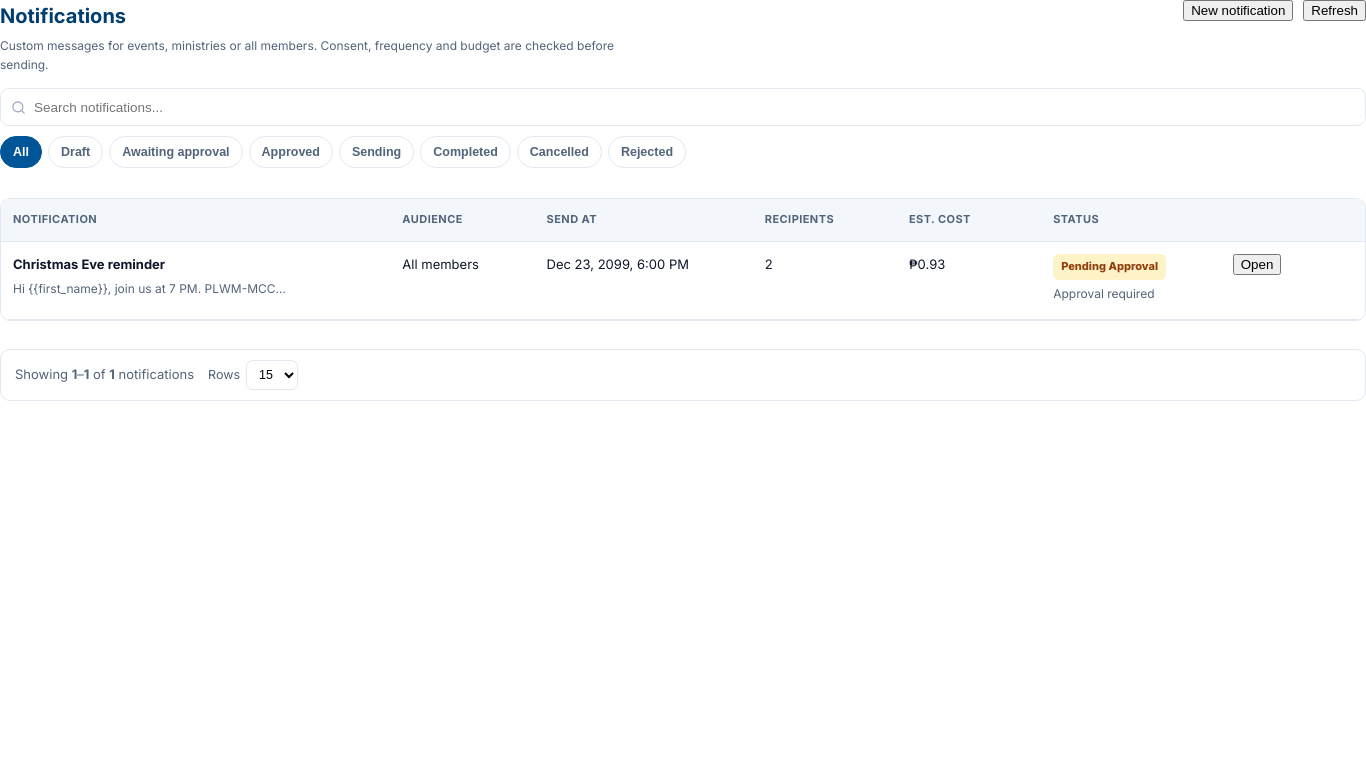
Test: CampaignsPanel › preview shows eligible recipients and estimated cost
expect the text "Christmas Eve reminder" is shown: met, box [13, 256, 165, 272]
Click the button "New notification": [1238, 10] box [1183, 0, 1293, 21]
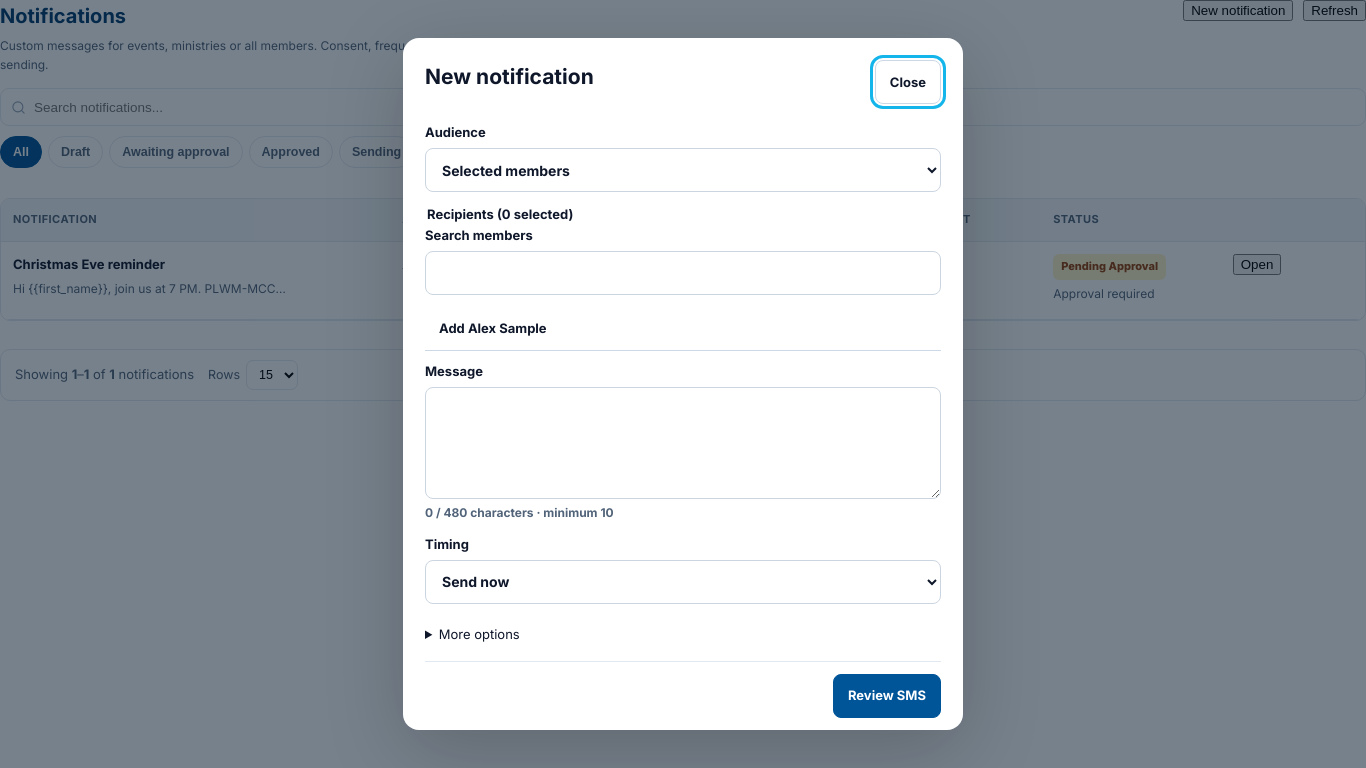
Click the button "Add Alex Sample": [507, 328] box [425, 307, 941, 351]
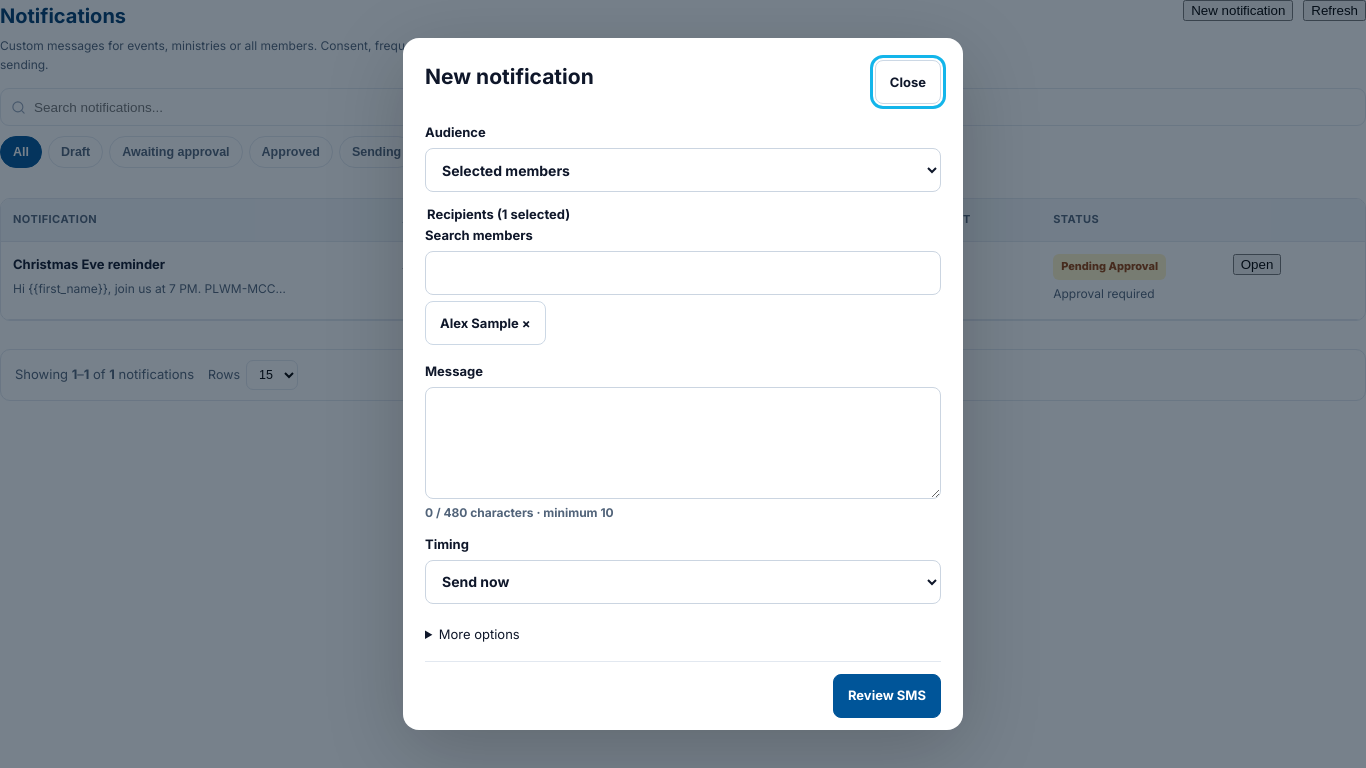
In the text box labelled "Message 0 / 480 characters · minimum 10": [683, 443] box [425, 387, 941, 499], type "Church reminder"
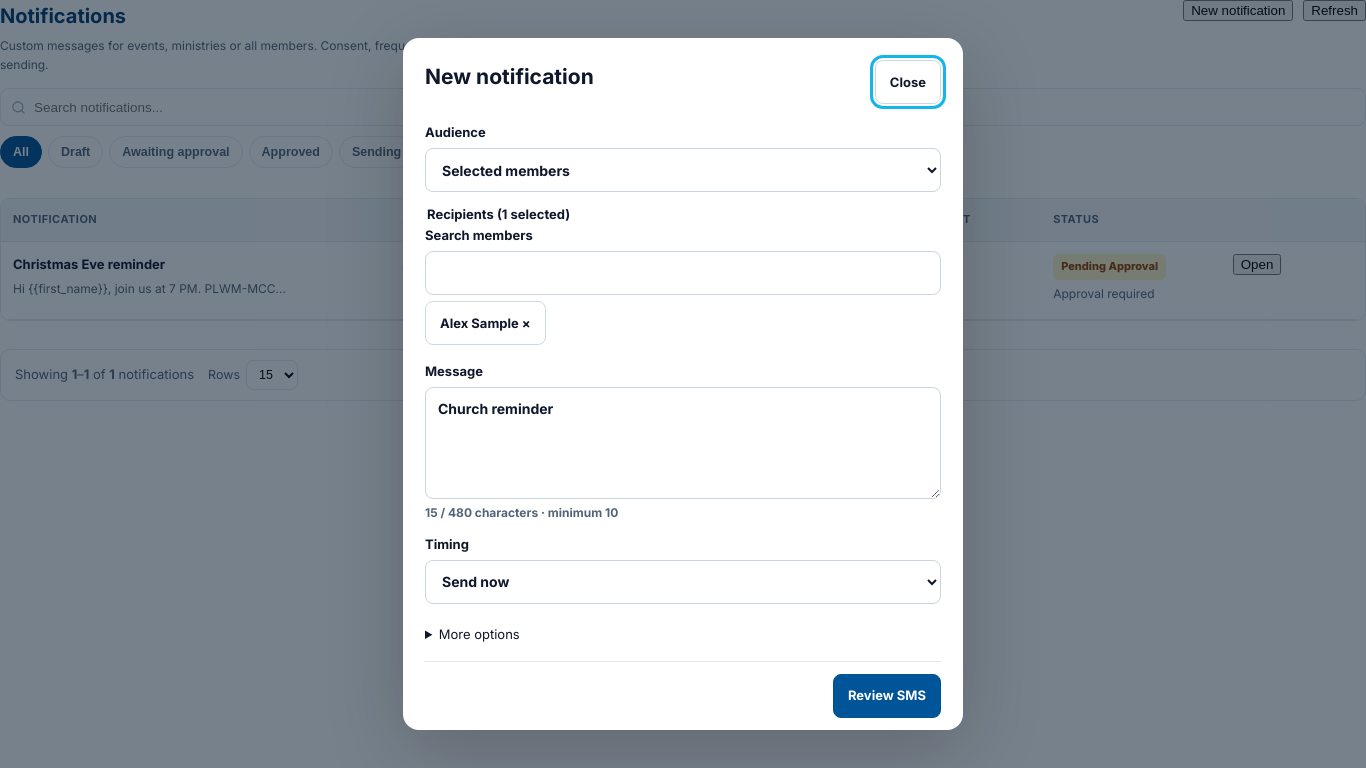
Submit the form named "Review SMS", box [425, 122, 941, 732]
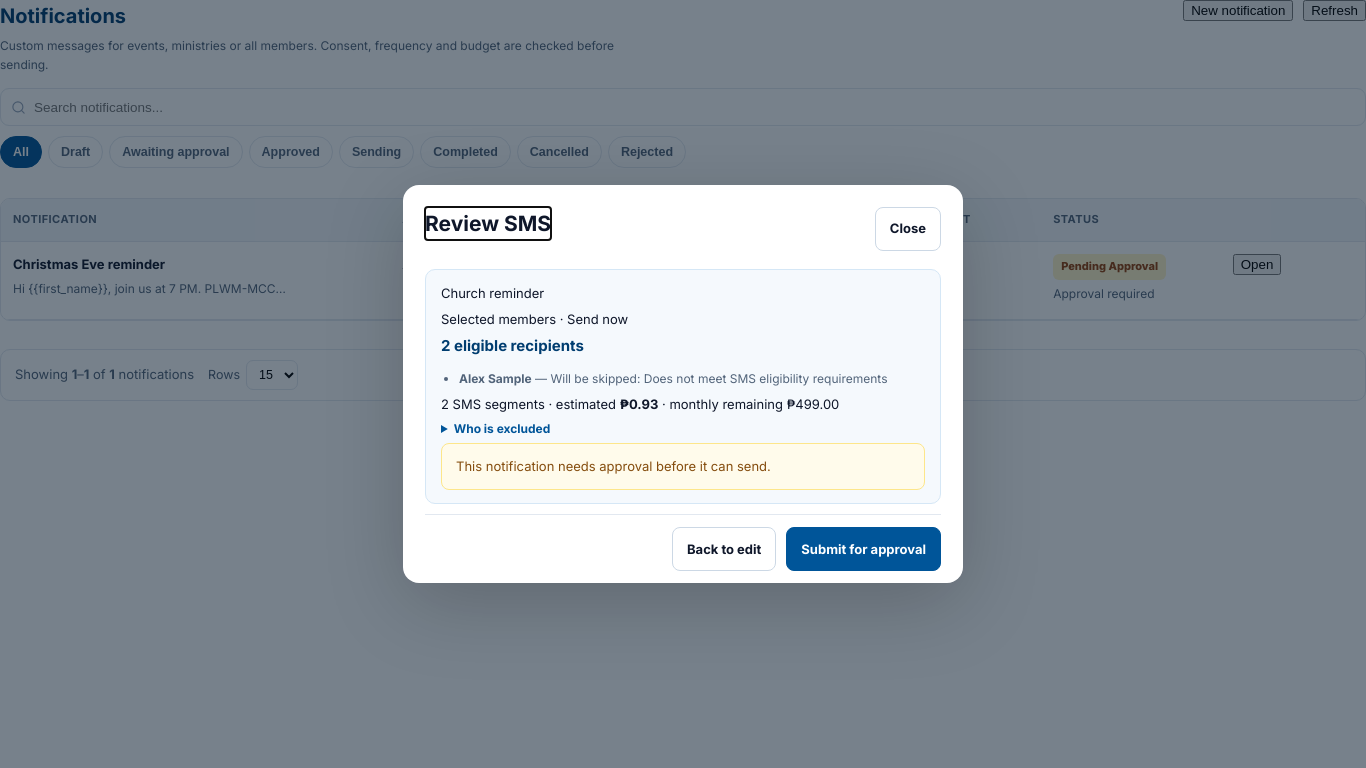
expect the heading "2 eligible recipients" is shown: met, box [441, 336, 584, 355]
expect the text "2 SMS segments · estimated ₱0.93 · monthly remaining ₱499.00" is shown: met, box [441, 396, 839, 412]
